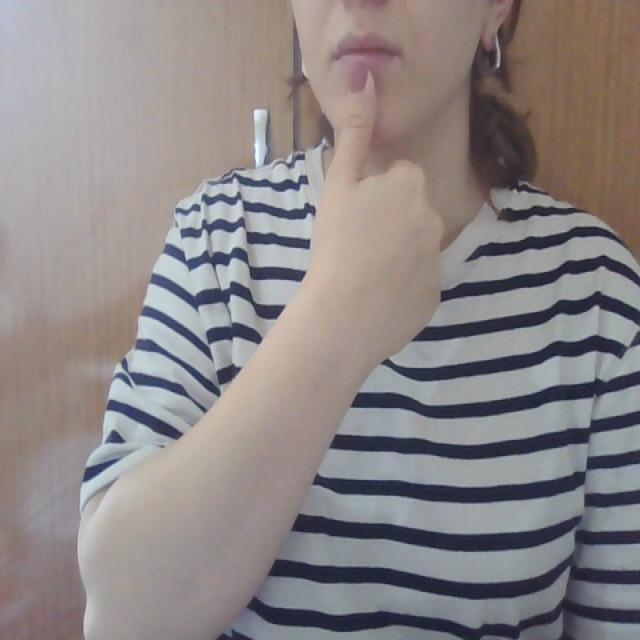Baba: (315, 15, 409, 160)
